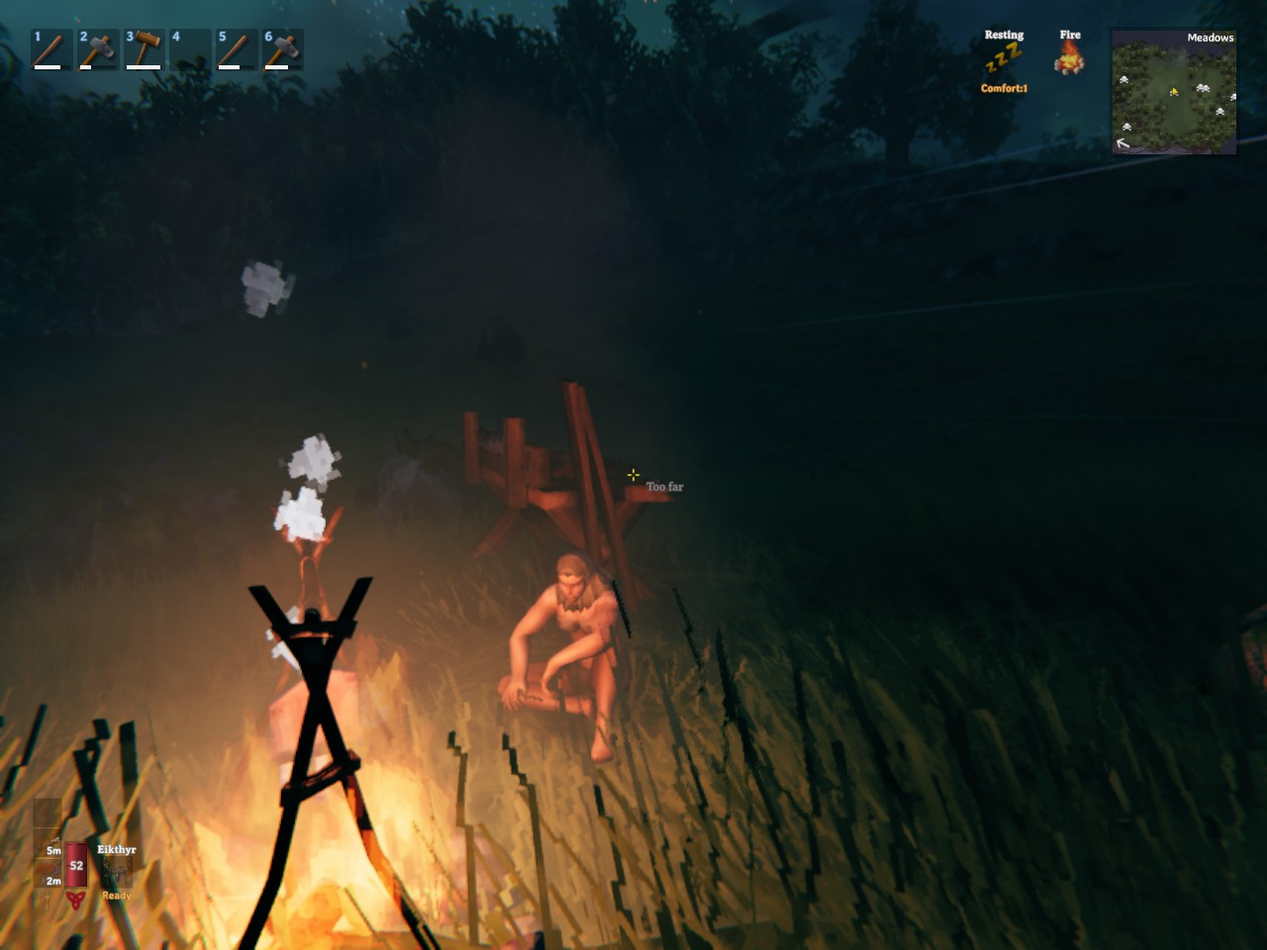Cook Station: (239, 578, 371, 949), (282, 509, 343, 618)
Fire: (194, 776, 466, 931)
Food Indicator: (36, 797, 63, 891)
Health Bar: (63, 820, 90, 891)
Hotbar: (25, 21, 398, 78)
Status Indicator: (965, 25, 1110, 96)
Workbench: (464, 381, 673, 607)
